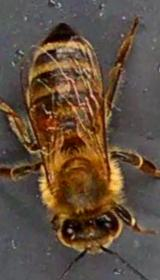varroa_mite: (36, 110, 64, 136)
